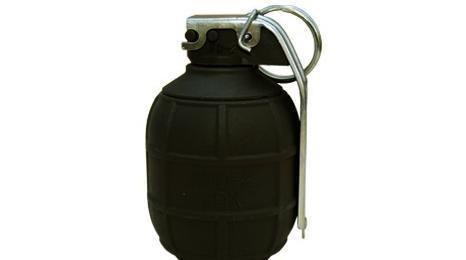Grenade: (145, 3, 324, 259)
